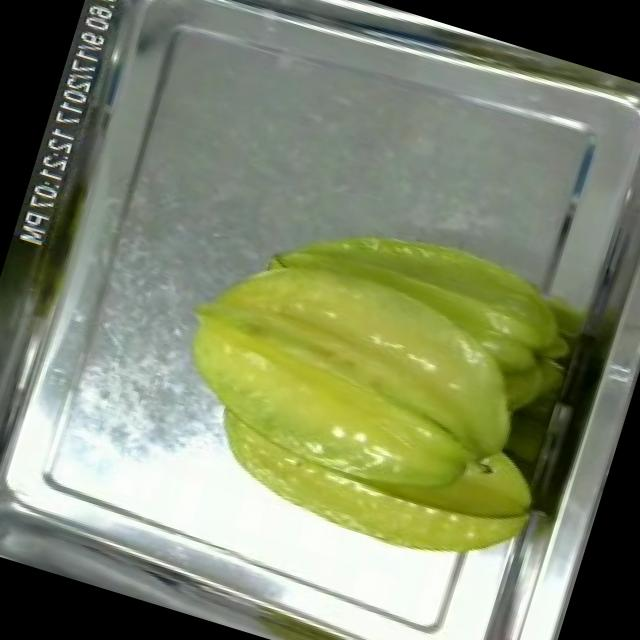fruit: (132, 160, 600, 600)
